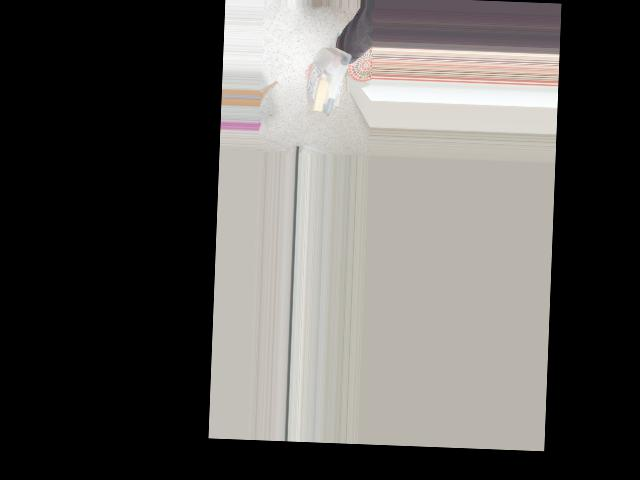cheese: (305, 46, 356, 118)
